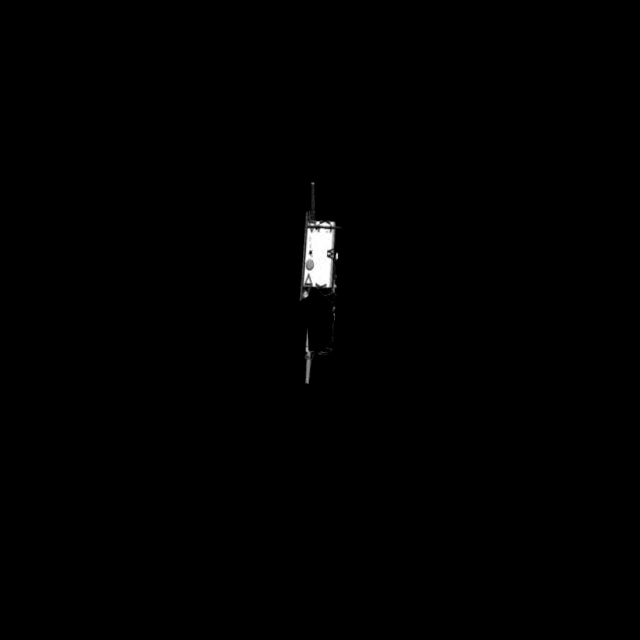medium_debris: (289, 176, 350, 390)
